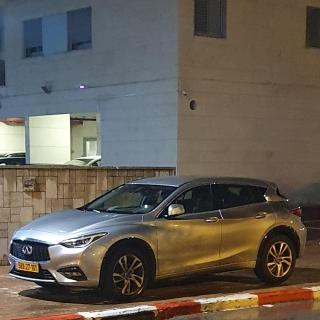LicensePlate: (17, 262, 38, 272)
